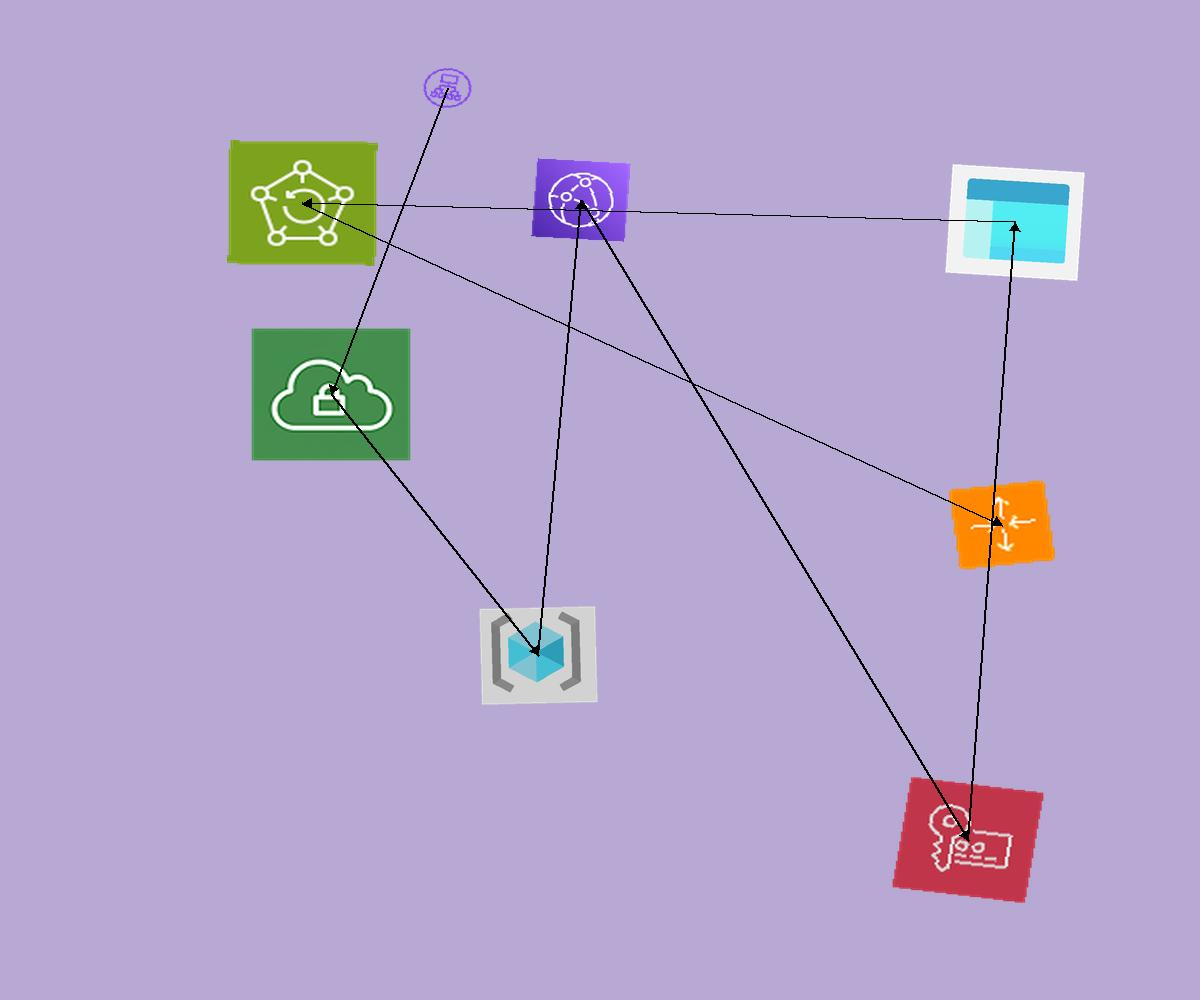AWS-Backup: (227, 140, 378, 266)
AWS-CloudFront: (531, 158, 631, 242)
AWS-Key-Management-Service: (891, 776, 1045, 904)
AWS-Private_vpc: (250, 327, 412, 462)
AWS-Res_Elastic-Load-Balancing_Application-Load-Balancer: (416, 62, 479, 114)
AWS-Scaling-group: (947, 479, 1057, 571)
Azure_management-portal: (945, 164, 1085, 281)
Azure_resource_group: (479, 606, 598, 705)
